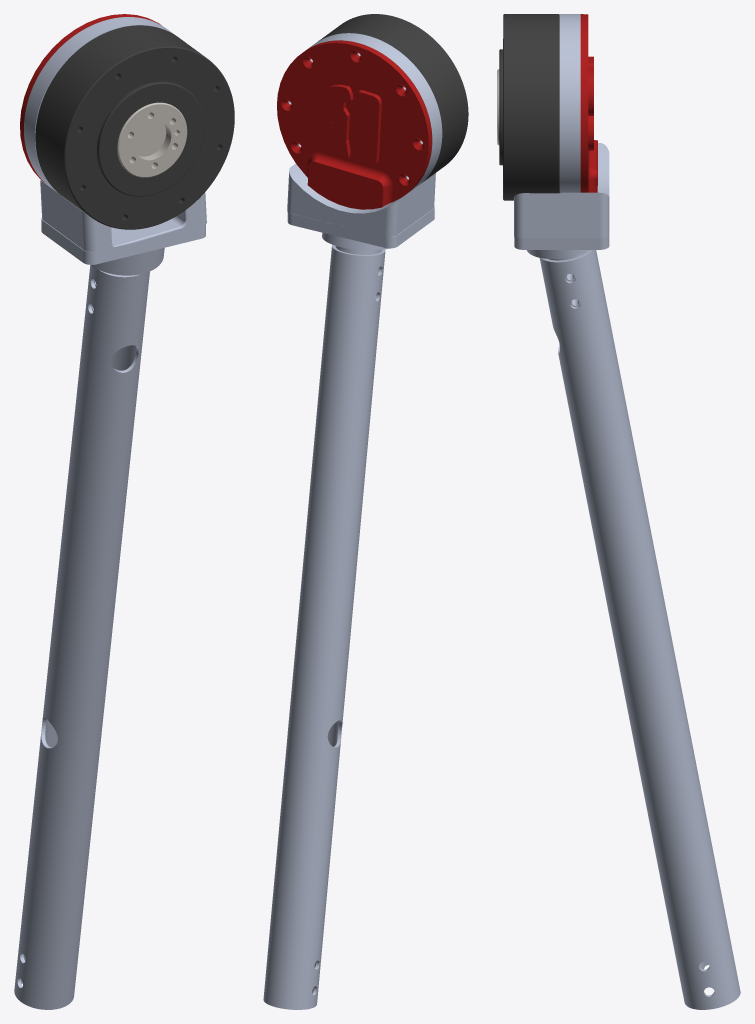
File: strut.dae
The picture shows the model from 3 angles, left to right: view 1: azimuth 30°, elevation 25°; view 2: azimuth 150°, elevation 25°; view 3: azimuth 270°, elevation 25°; orthographic projection. The views are drawn at different scales.
Visible parts, largest first — view 1: 01.02.02.01.01_01_Strut, 01.03.01.02.02_01_Outer Section, 01.03.01.03.01_01_Wheel Connection, 01.03.01.02.01_01_Inner Section, 01.03.01.03.02_01_Motor Connection, 01.02.02.01.02_01_Wheel Connection Plate, 01.02.02.01.03_01_Wheel Connection, 01.03.01.03.03_01_Motor Cap; view 2: 01.02.02.01.01_01_Strut, 01.03.01.03.03_01_Motor Cap, 01.03.01.02.02_01_Outer Section, 01.03.01.03.01_01_Wheel Connection, 01.03.01.03.02_01_Motor Connection, 01.02.02.01.02_01_Wheel Connection Plate, 01.02.02.01.03_01_Wheel Connection; view 3: 01.02.02.01.01_01_Strut, 01.03.01.02.02_01_Outer Section, 01.03.01.03.01_01_Wheel Connection, 01.03.01.03.02_01_Motor Connection, 01.03.01.03.03_01_Motor Cap, 01.02.02.01.02_01_Wheel Connection Plate, 01.02.02.01.03_01_Wheel Connection.
Boxes of the visible parts, left/top/right/bottom form: 01.02.02.01.01_01_Strut: left=14, top=265, right=149, bottom=1009; 01.03.01.02.02_01_Outer Section: left=35, top=25, right=234, bottom=229; 01.03.01.03.01_01_Wheel Connection: left=40, top=180, right=206, bottom=251; 01.03.01.02.01_01_Inner Section: left=117, top=102, right=187, bottom=177; 01.03.01.03.02_01_Motor Connection: left=24, top=17, right=175, bottom=193; 01.02.02.01.02_01_Wheel Connection Plate: left=41, top=217, right=205, bottom=264; 01.02.02.01.03_01_Wheel Connection: left=90, top=248, right=164, bottom=311; 01.03.01.03.03_01_Motor Cap: left=20, top=14, right=161, bottom=183; 01.02.02.01.01_01_Strut: left=263, top=244, right=385, bottom=1009; 01.03.01.03.03_01_Motor Cap: left=277, top=40, right=432, bottom=209; 01.03.01.02.02_01_Outer Section: left=318, top=14, right=468, bottom=183; 01.03.01.03.01_01_Wheel Connection: left=287, top=163, right=435, bottom=241; 01.03.01.03.02_01_Motor Connection: left=288, top=33, right=442, bottom=190; 01.02.02.01.02_01_Wheel Connection Plate: left=287, top=206, right=434, bottom=248; 01.02.02.01.03_01_Wheel Connection: left=322, top=232, right=388, bottom=299; 01.02.02.01.01_01_Strut: left=539, top=250, right=740, bottom=1009; 01.03.01.02.02_01_Outer Section: left=499, top=14, right=559, bottom=200; 01.03.01.03.01_01_Wheel Connection: left=514, top=143, right=609, bottom=238; 01.03.01.03.02_01_Motor Connection: left=559, top=14, right=580, bottom=193; 01.03.01.03.03_01_Motor Cap: left=580, top=14, right=597, bottom=192; 01.02.02.01.02_01_Wheel Connection Plate: left=514, top=234, right=609, bottom=249; 01.02.02.01.03_01_Wheel Connection: left=527, top=250, right=589, bottom=306.
Size of the model in its own units: 0.098 by 0.1277 by 0.566.
